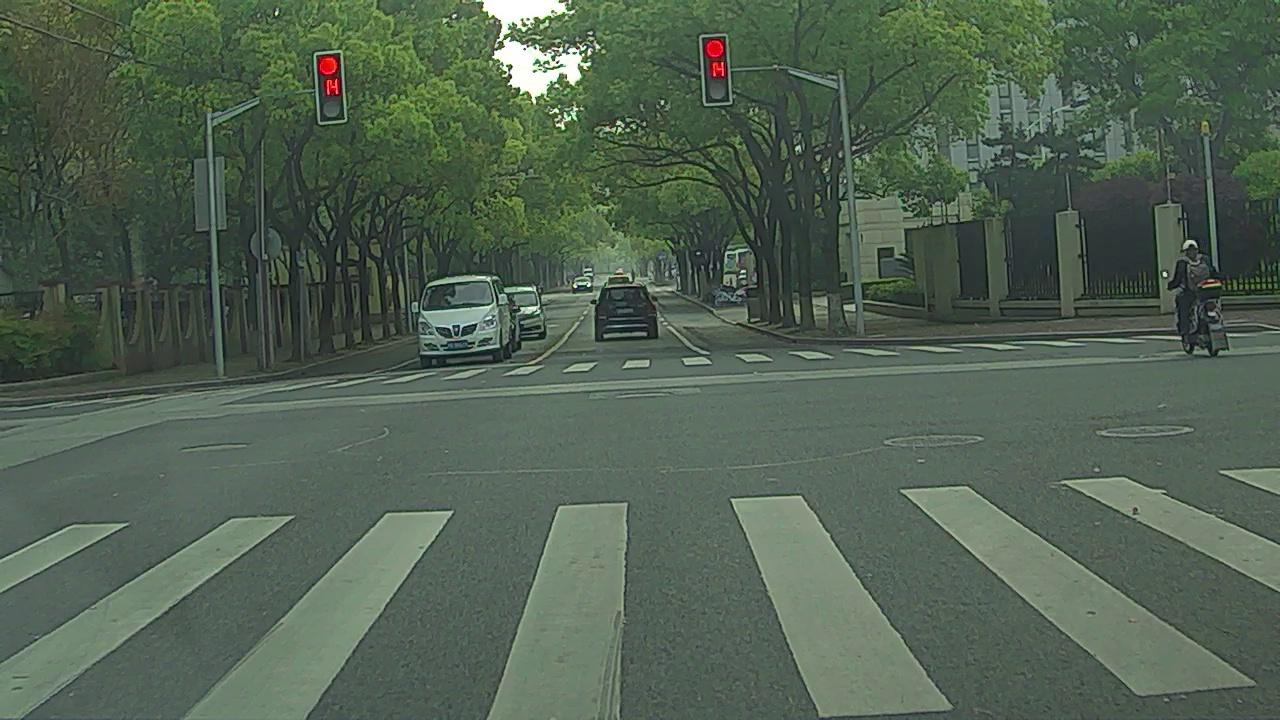traffic_light: (316, 55, 346, 122), (702, 37, 731, 104)
